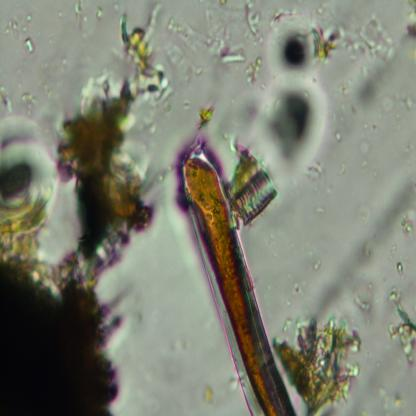Background material: (0, 117, 124, 416), (50, 6, 172, 274), (318, 178, 416, 312), (271, 3, 399, 87), (272, 306, 368, 416), (254, 86, 336, 188), (160, 3, 207, 88), (203, 0, 247, 67), (386, 287, 416, 364), (7, 12, 42, 58), (243, 0, 267, 45), (363, 67, 384, 111), (0, 76, 19, 113), (351, 291, 374, 319), (248, 53, 266, 87), (405, 0, 416, 48), (200, 379, 216, 406), (401, 213, 416, 240), (357, 132, 373, 157), (378, 90, 394, 114), (75, 3, 88, 32), (291, 276, 308, 298), (396, 95, 414, 115), (201, 106, 217, 128), (357, 205, 374, 223), (339, 76, 351, 98), (312, 252, 324, 272), (392, 263, 406, 280), (30, 87, 38, 115), (95, 2, 105, 20), (314, 203, 325, 214), (339, 161, 348, 174), (406, 144, 414, 152), (337, 131, 343, 141)
Diatom: (228, 144, 277, 224)
Microfibre: (177, 141, 296, 416)
